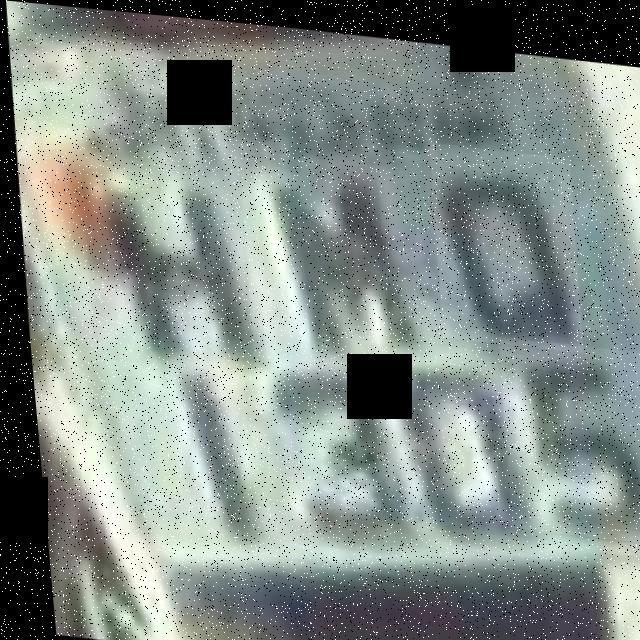0: (358, 330, 556, 551)
1: (153, 358, 272, 544)
3: (231, 342, 432, 551)
5: (489, 326, 640, 533)
N: (245, 145, 419, 367), (75, 164, 251, 372)
Q: (424, 133, 580, 342)
